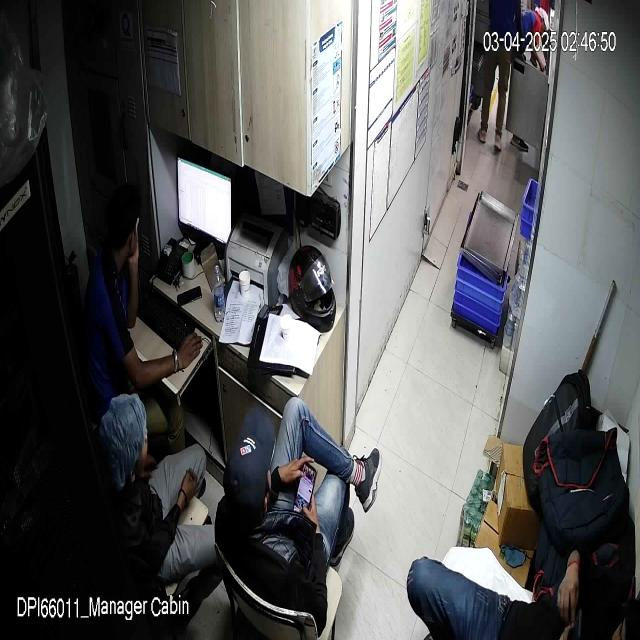helmet: (287, 247, 337, 333)
no_helmet: (222, 404, 275, 529), (99, 393, 148, 493), (104, 183, 142, 274)
